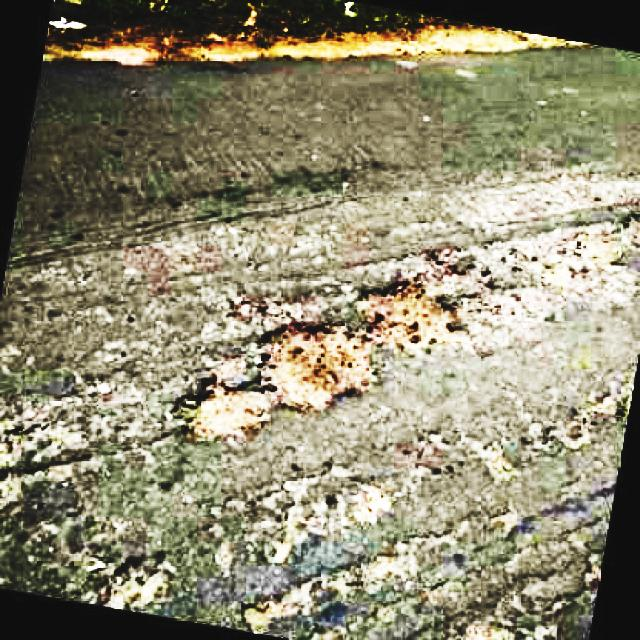pothole: (173, 308, 384, 443), (351, 257, 535, 355), (232, 544, 428, 634), (263, 469, 408, 546), (538, 218, 640, 302), (550, 385, 636, 457), (89, 551, 180, 614)
